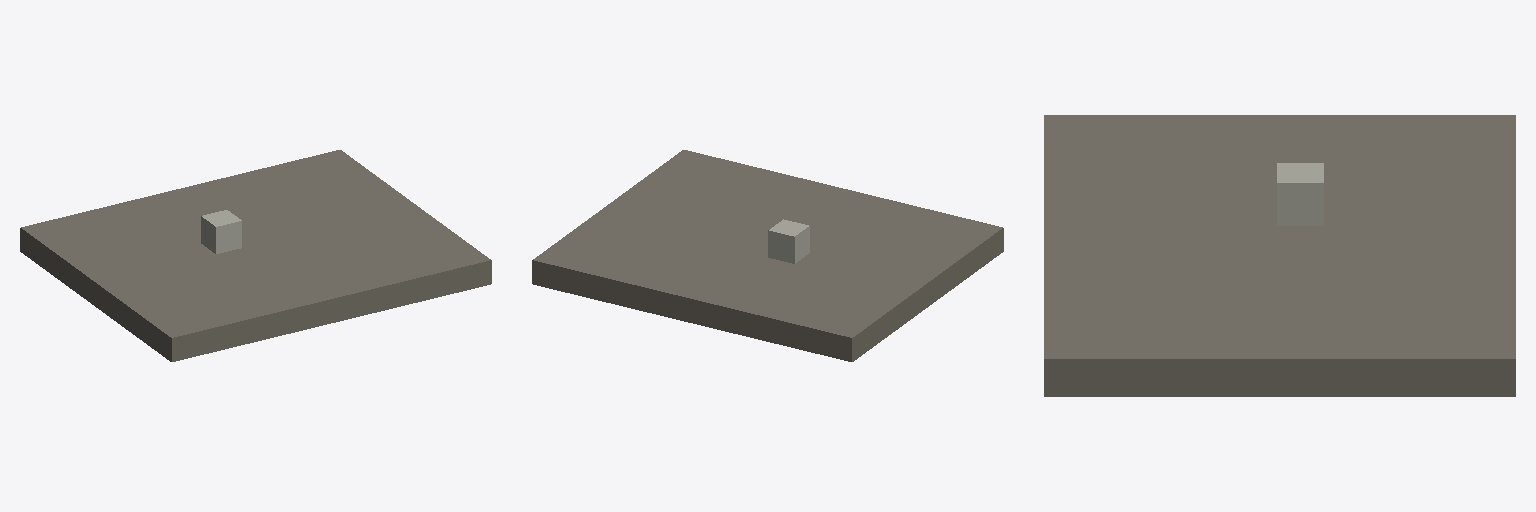
robot.urdf — parttoolgen_hammer_single_cube:
<?xml version="1.0"?>
<robot name="parttoolgen_hammer_single_cube">
  <link name="table_with_target_cube">
    <visual>
      <material name="wood">
        <color rgba="0.52 0.50 0.46 1.0"/>
      </material>
      <origin xyz="0 0 0"/>
      <geometry>
        <box size="0.55 0.45 0.04"/>
      </geometry>
    </visual>
    <collision>
      <origin xyz="0 0 0"/>
      <geometry>
        <box size="0.55 0.45 0.04"/>
      </geometry>
    </collision>

    <visual>
      <material name="target_cube">
        <color rgba="0.72 0.72 0.68 1.0"/>
      </material>
      <origin xyz="-0.047647782039783905 0.019730429565109397 0.042499999999999996"/>
      <geometry>
        <box size="0.045 0.045 0.045"/>
      </geometry>
    </visual>
    <collision>
      <origin xyz="-0.047647782039783905 0.019730429565109397 0.042499999999999996"/>
      <geometry>
        <box size="0.045 0.045 0.045"/>
      </geometry>
    </collision>

    <inertial>
      <mass value="500"/>
      <friction value="1.0"/>
      <inertia ixx="1000.0" ixy="0.0" ixz="0.0" iyy="1000.0" iyz="0.0" izz="1000.0"/>
    </inertial>
  </link>
</robot>

--- Render facts (derived) ---
The picture shows the robot from 3 angles, left to right: view 1: azimuth 30°, elevation 25°; view 2: azimuth 150°, elevation 25°; view 3: azimuth 270°, elevation 25°; orthographic projection.
Model parttoolgen_hammer_single_cube with 1 links and 0 joints (none), rooted at table_with_target_cube, posed all joints at 0.
Links seen in each view (by area): view 1: table_with_target_cube; view 2: table_with_target_cube; view 3: table_with_target_cube.
Link boxes in pixels (x1,y1,x2,y2): table_with_target_cube: (20,150,491,361); table_with_target_cube: (532,150,1003,361); table_with_target_cube: (1044,115,1515,396).
Size in the robot's own frame: 0.55 by 0.45 by 0.085 metres.
Geometry: primitives only (box / cylinder / sphere), no mesh files.
